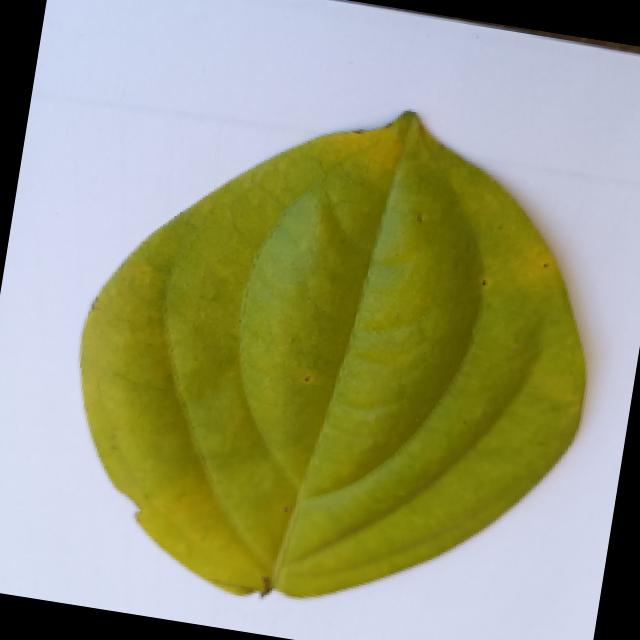slow-decline: (27, 41, 640, 640)
